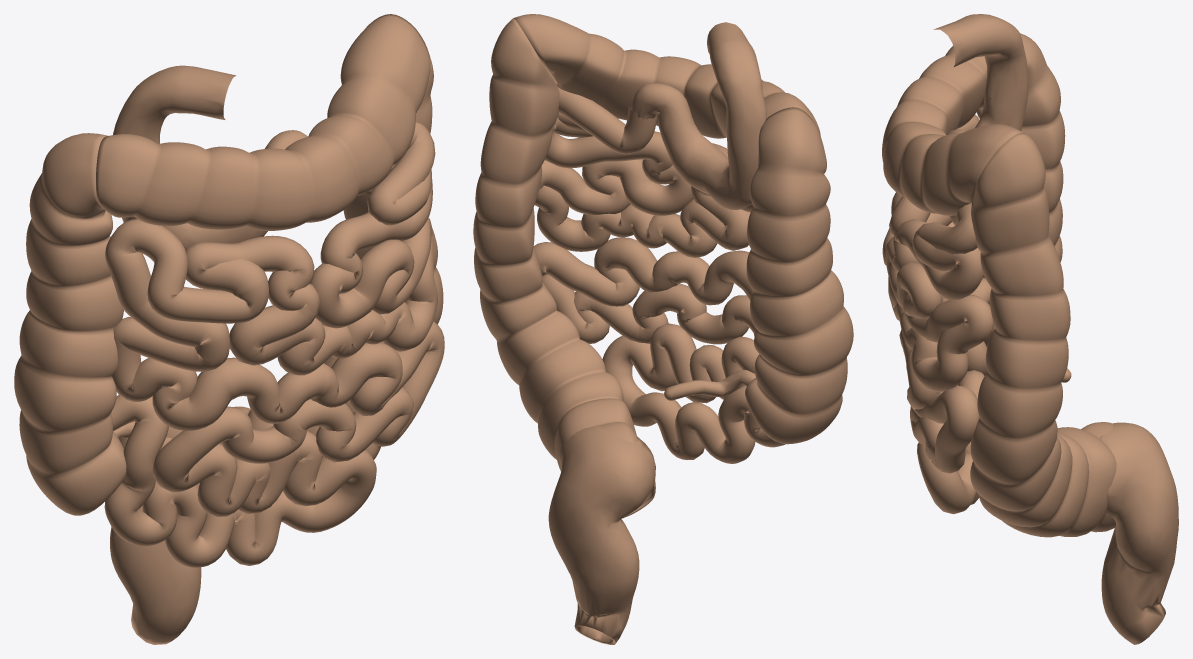
File: intestines.glb
The picture shows the model from 3 angles, left to right: view 1: azimuth 30°, elevation 25°; view 2: azimuth 150°, elevation 25°; view 3: azimuth 270°, elevation 25°; orthographic projection. The views are drawn at different scales.
Visible parts, largest first — view 1: real-small-intestine-jejunum, real-large-intestine-transverse-colon, real-large-intestine-ascending-colon, real-small-intestine-duodenum, real-large-intestine-sigmoid-colon, real-large-intestine-descending-colon; view 2: real-small-intestine-jejunum, real-large-intestine-descending-colon, real-large-intestine-ascending-colon, real-large-intestine-sigmoid-colon, real-small-intestine-duodenum, real-large-intestine-transverse-colon, real-large-intestine-vermiform-appendix; view 3: real-large-intestine-descending-colon, real-small-intestine-jejunum, real-large-intestine-transverse-colon, real-large-intestine-sigmoid-colon, real-small-intestine-duodenum, real-large-intestine-ascending-colon.
Boxes of the visible parts, x1,y1,x2,y2 form: real-small-intestine-jejunum: (104,122,444,567); real-large-intestine-transverse-colon: (96,14,430,230); real-large-intestine-ascending-colon: (14,133,126,515); real-small-intestine-duodenum: (113,65,307,250); real-large-intestine-sigmoid-colon: (110,437,201,644); real-large-intestine-descending-colon: (166,17,443,487); real-small-intestine-jejunum: (534,87,785,463); real-large-intestine-descending-colon: (473,18,655,518); real-large-intestine-ascending-colon: (745,107,853,444); real-large-intestine-sigmoid-colon: (548,425,655,644); real-small-intestine-duodenum: (630,22,766,209); real-large-intestine-transverse-colon: (513,14,820,138); real-large-intestine-vermiform-appendix: (664,370,755,400); real-large-intestine-descending-colon: (970,133,1116,537); real-small-intestine-jejunum: (882,114,994,514); real-large-intestine-transverse-colon: (882,46,1023,215); real-large-intestine-sigmoid-colon: (1100,422,1178,644); real-small-intestine-duodenum: (933,14,1028,134); real-large-intestine-ascending-colon: (976,33,1065,347).
Bounding box in the file's own units: 0.2281 × 0.3395 × 0.1531.
